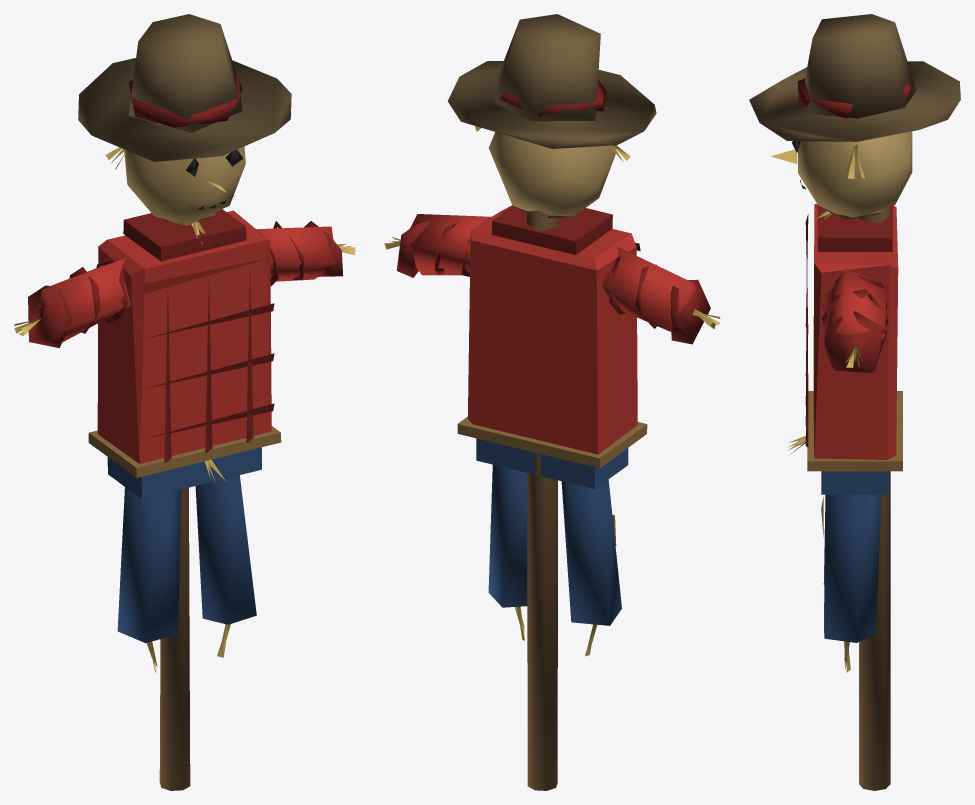
Rendered from scarecrow.far.glb.
3 renders of one model, left to right at view 1: azimuth 30°, elevation 25°; view 2: azimuth 150°, elevation 25°; view 3: azimuth 270°, elevation 25°, orthographic.
Parts seen in each view (by area): view 1: scarecrow_far; view 2: scarecrow_far; view 3: scarecrow_far.
Part boxes in pixels (x1=…): scarecrow_far: x1=14, y1=14, x2=355, y2=790; scarecrow_far: x1=384, y1=14, x2=720, y2=790; scarecrow_far: x1=749, y1=14, x2=960, y2=790.
Size of the model in its own units: 0.9854 by 2.13 by 0.5381.
